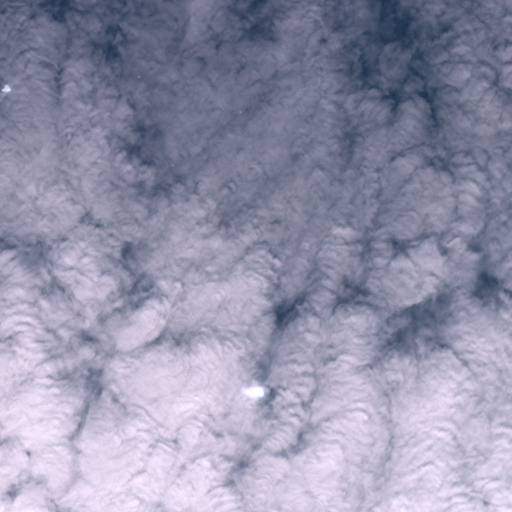Iceberg: (242, 387, 263, 397), (1, 84, 10, 91), (138, 76, 139, 77), (239, 111, 240, 112), (172, 164, 173, 165)
